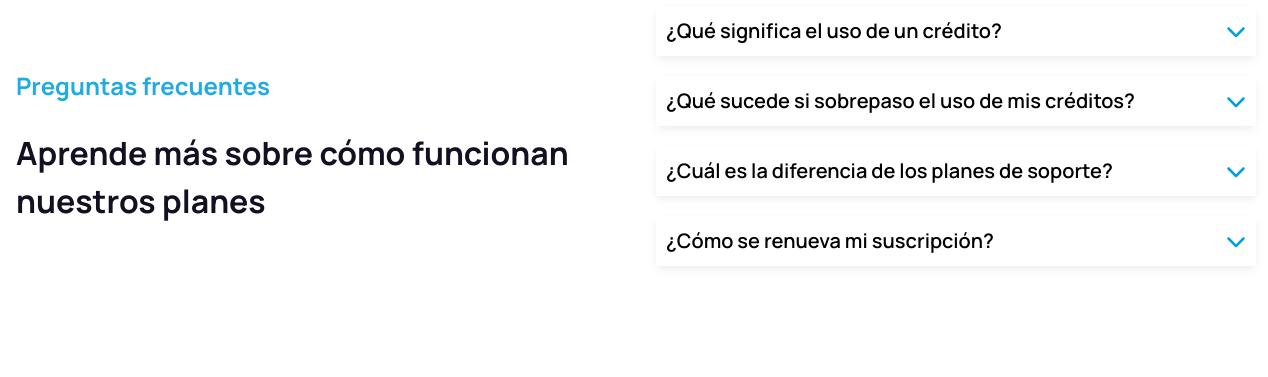
SeccionPreguntas Component › renders content correctly
Expected: the heading "Preguntas frecuentes" is shown, [16, 68, 270, 102]
Expected: the heading "Aprende más sobre cómo funcionan nuestros planes" is shown, [16, 128, 616, 224]
Note: Abre y cierra un acordeón y verifica que su contenido sea correcto
Click the heading "¿Qué significa el uso de un crédito?" at (834, 31), box [666, 16, 1002, 46]
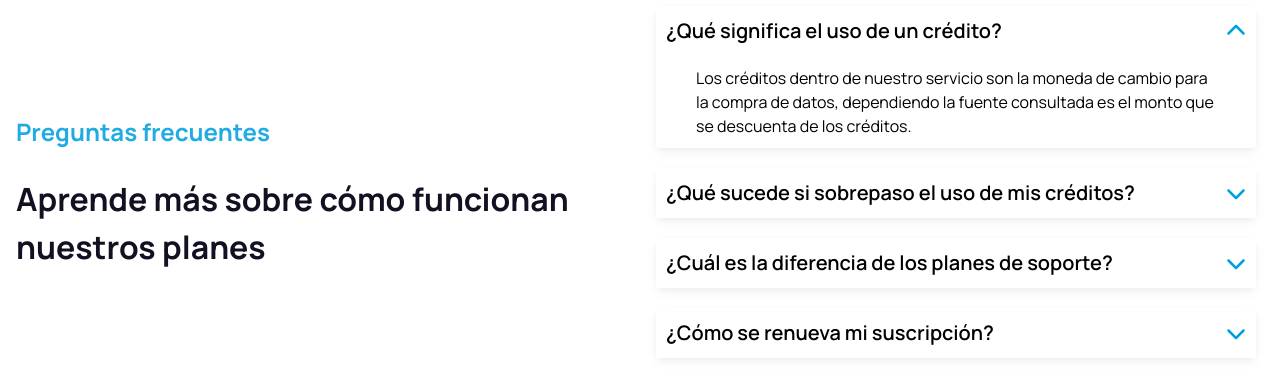
Result: the text "Los créditos dentro de nuestro servicio son la moneda de cambio para la compra de datos, dependiendo la fuente consultad" is shown at [696, 67, 1214, 137]
